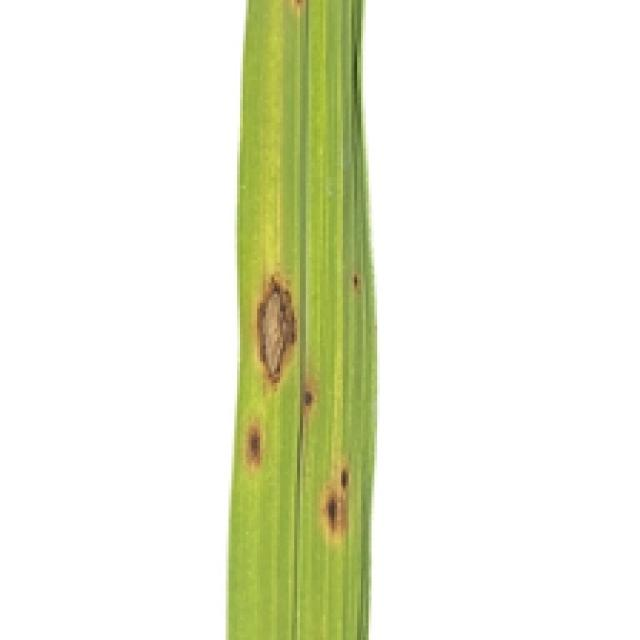Rice___Rice_Blast: (227, 0, 378, 637)
